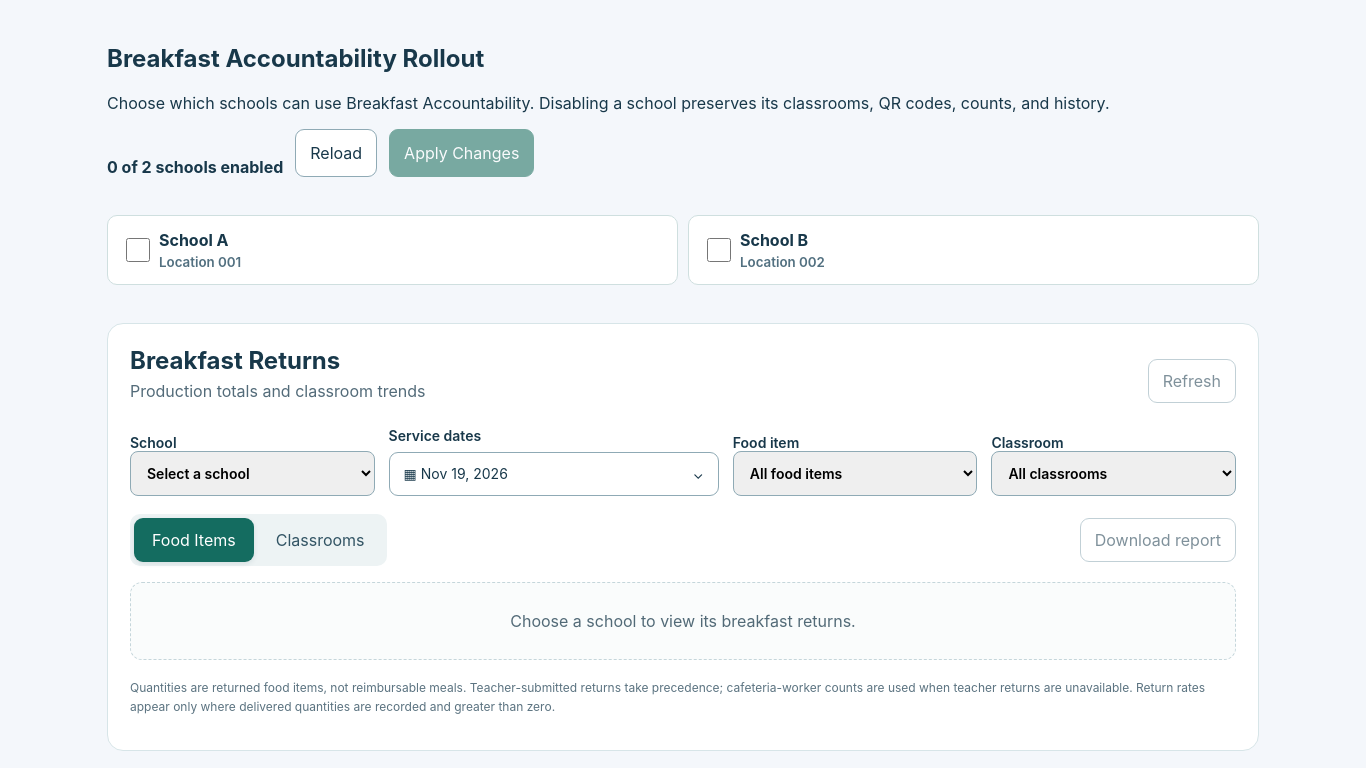
failed save keeps pending selection without claiming success; reload retrieves saved values
This screenshot has width=1366, height=768.
Click the checkbox labelled "School A Location 001" at (138, 250), box x1=126 y1=238 x2=150 y2=262
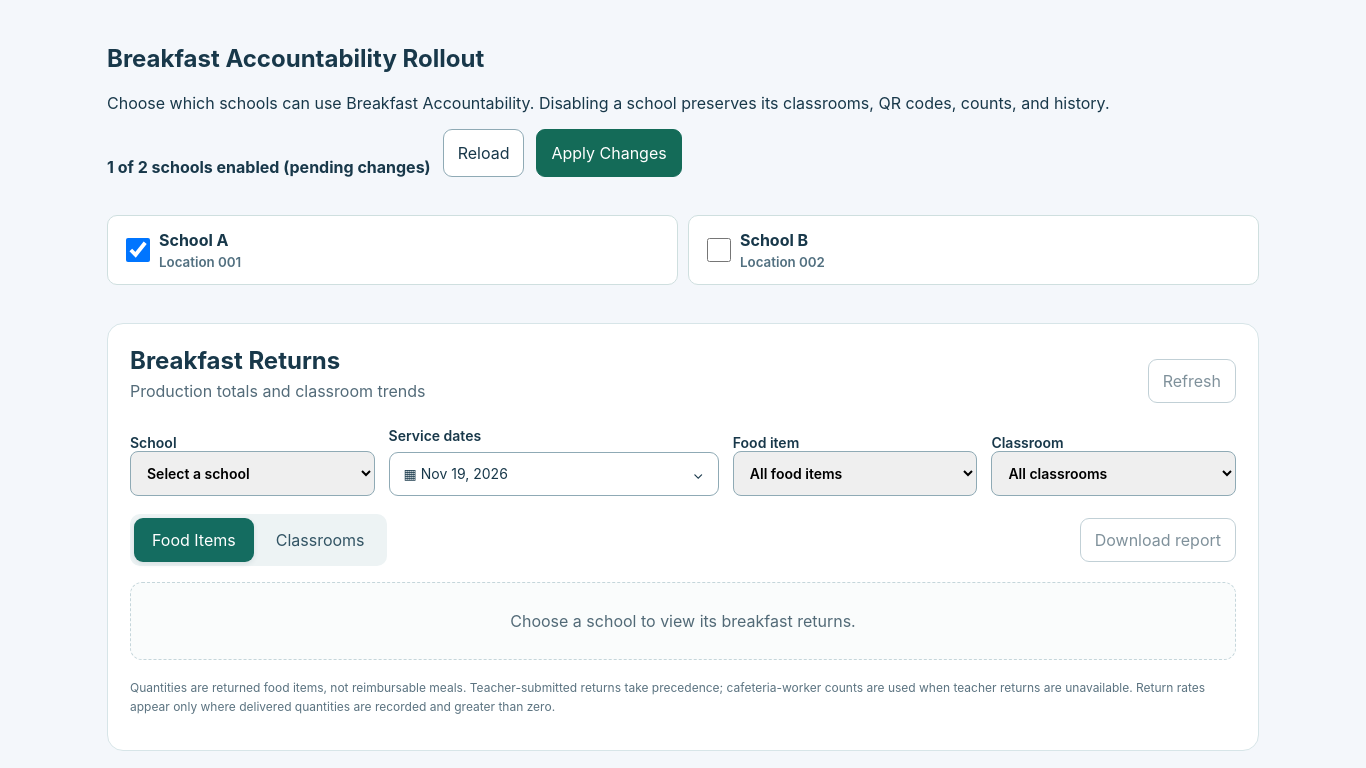
Click the button "Apply Changes" at (609, 153), box x1=536 y1=129 x2=682 y2=177
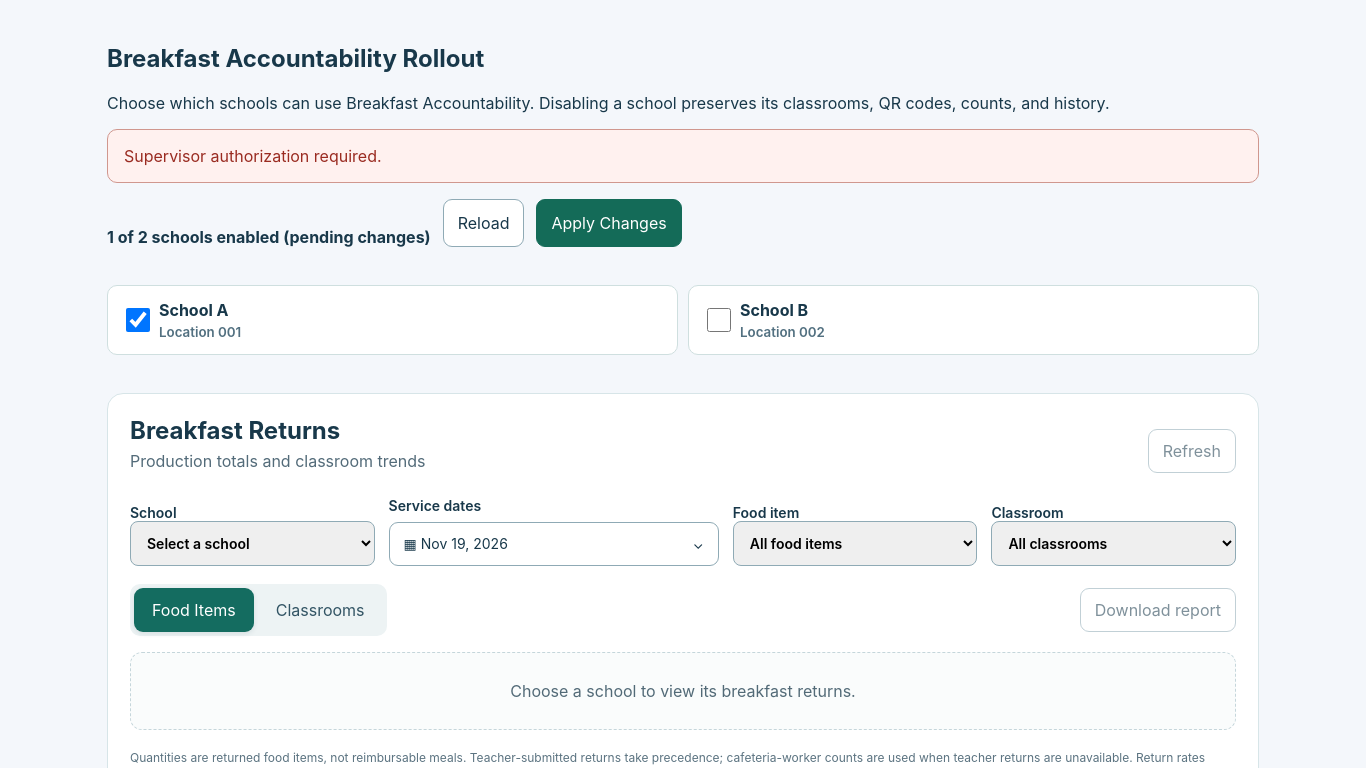
Check: the checkbox labelled "School A Location 001" is checked, box x1=126 y1=308 x2=150 y2=332
Check: the message "Supervisor authorization required." is shown, box x1=107 y1=129 x2=1259 y2=183
Click the button "Reload" at (484, 223), box x1=443 y1=199 x2=524 y2=247
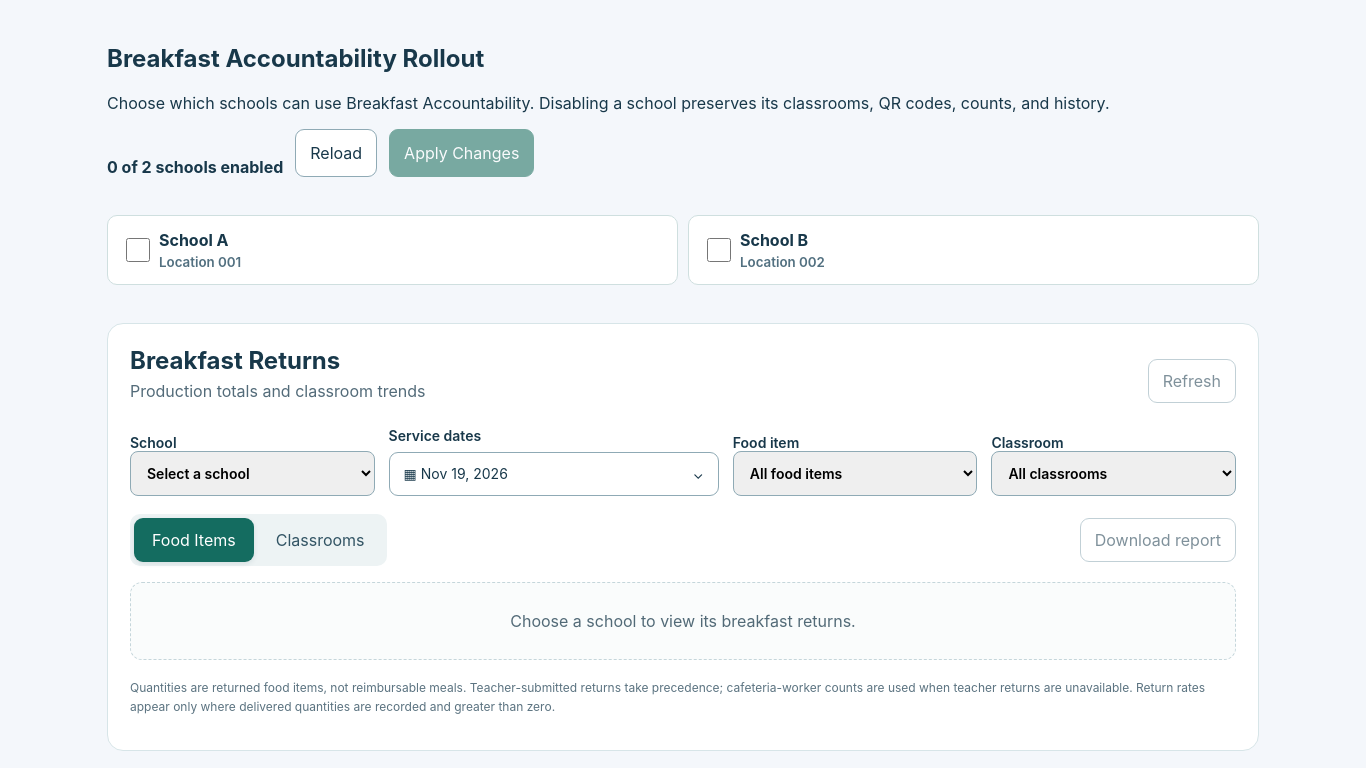
Check: the checkbox labelled "School A Location 001" is not checked, box x1=126 y1=238 x2=150 y2=262
